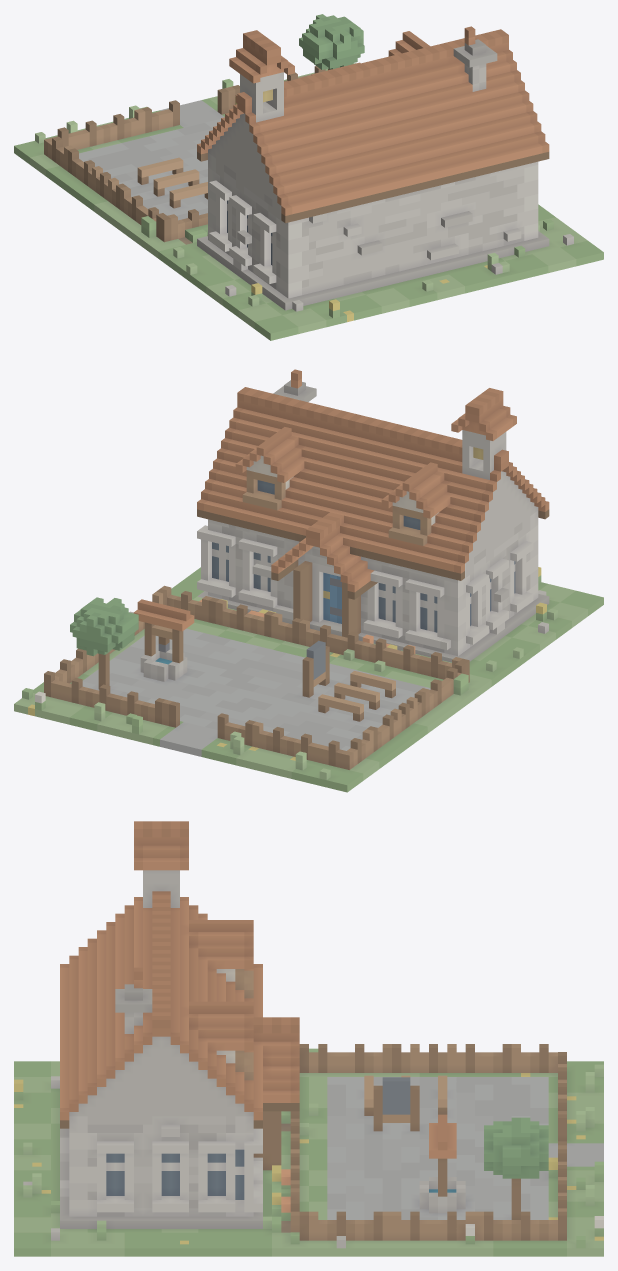
Rendered from school.glb.
The picture shows the model from 3 angles, top to bottom: view 1: azimuth 30°, elevation 25°; view 2: azimuth 150°, elevation 25°; view 3: azimuth 270°, elevation 25°; orthographic projection. The views are drawn at different scales.
Parts seen in each view (by area): view 1: school; view 2: school; view 3: school.
Part boxes in pixels (box(x1,y1,x2,y2)): school: box(14, 14, 603, 340); school: box(14, 369, 603, 792); school: box(14, 821, 603, 1256).
Size of the model in its own units: 6 by 4.12 by 8.
